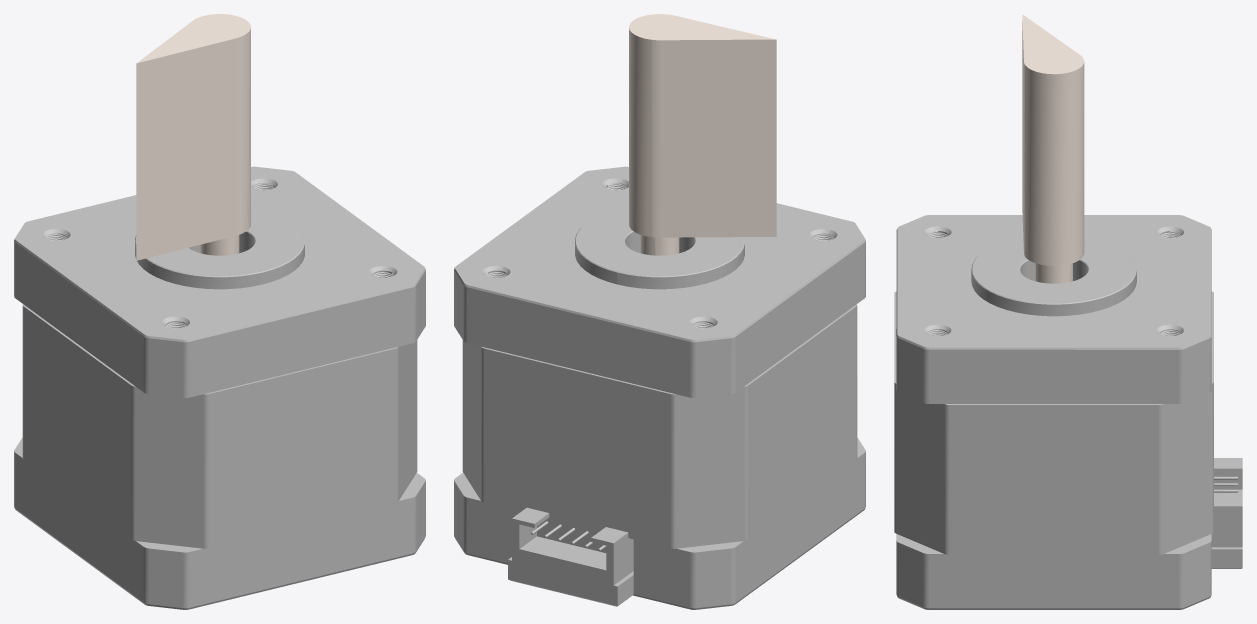
The model's file is nema17.glb.
3 renders of one model, left to right at view 1: azimuth 30°, elevation 25°; view 2: azimuth 150°, elevation 25°; view 3: azimuth 270°, elevation 25°, orthographic. The views are drawn at different scales.
Parts seen in each view (by area): view 1: empty_3, empty_4, empty_6, empty_2; view 2: empty_3, empty_4, empty_6, empty_2, empty_5; view 3: empty_4, empty_3, empty_2, empty_6, empty_5.
Part boxes in pixels (box(x1,y1,x2,y2)): empty_3: box(22, 304, 417, 548); empty_4: box(14, 166, 425, 397); empty_6: box(136, 14, 250, 260); empty_2: box(14, 437, 425, 609); empty_3: box(462, 304, 857, 548); empty_4: box(454, 166, 865, 398); empty_6: box(629, 14, 776, 255); empty_2: box(454, 437, 865, 609); empty_5: box(512, 507, 633, 585); empty_4: box(896, 215, 1211, 403); empty_3: box(894, 291, 1213, 554); empty_2: box(896, 534, 1242, 609); empty_6: box(1022, 14, 1084, 283); empty_5: box(1211, 458, 1242, 547).
Bounding box in the file's own units: 0.0423 × 0.0704 × 0.0461.
